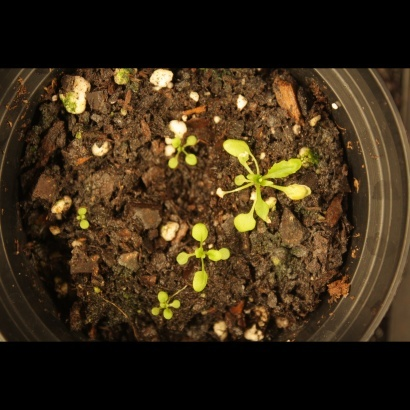leaf: (263, 156, 305, 182), (220, 136, 256, 161), (233, 208, 261, 240), (187, 220, 218, 247), (251, 192, 277, 223), (188, 267, 216, 294), (284, 180, 315, 203), (169, 246, 193, 272), (207, 245, 233, 269), (71, 194, 94, 217), (72, 219, 95, 242), (157, 153, 180, 176), (159, 126, 182, 149), (186, 126, 209, 149), (184, 151, 207, 174), (147, 280, 170, 303), (172, 286, 195, 309), (161, 310, 184, 333), (139, 305, 162, 328), (189, 245, 212, 268), (229, 170, 252, 193)
